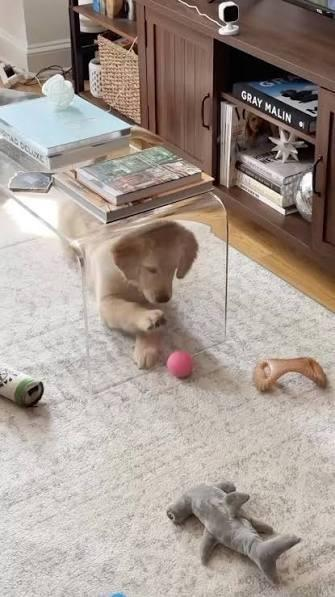non-dog: (165, 482, 302, 582)
puppy-dog: (63, 218, 201, 371)
